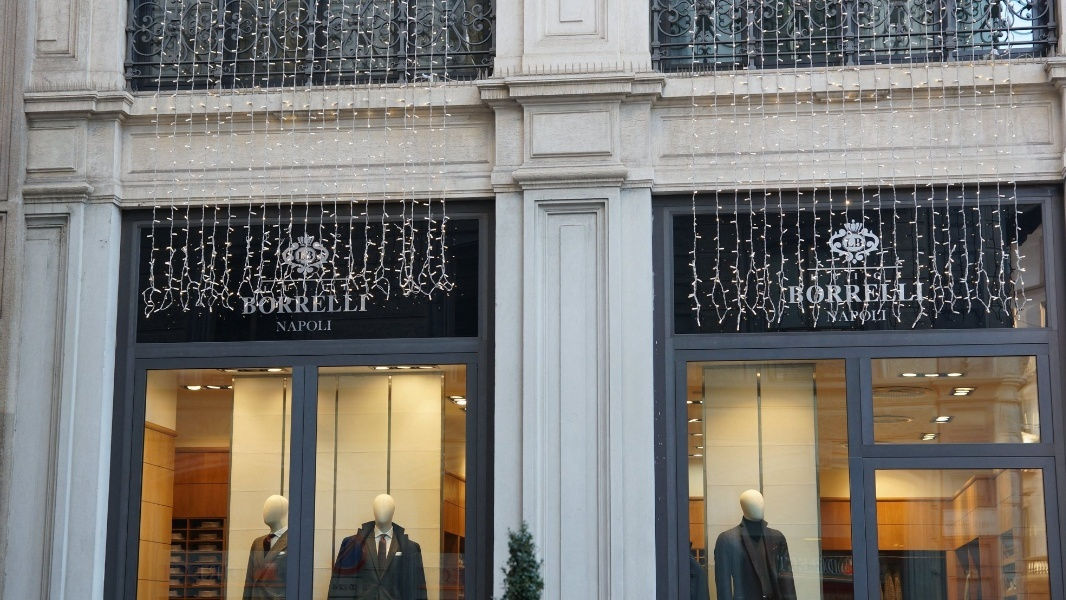text: (801, 284, 816, 304), (817, 284, 832, 304), (833, 284, 848, 304), (849, 284, 864, 304), (865, 284, 880, 304), (881, 284, 896, 304), (897, 284, 912, 304), (257, 295, 272, 314), (273, 295, 288, 314), (289, 295, 304, 314), (305, 295, 320, 314), (321, 295, 336, 314), (337, 295, 352, 314), (353, 295, 368, 314), (833, 559, 849, 576), (242, 295, 256, 314), (788, 284, 800, 304), (913, 284, 925, 304), (289, 320, 304, 332), (305, 320, 320, 332), (833, 311, 848, 322), (849, 311, 864, 322), (865, 311, 880, 322), (823, 559, 832, 576), (273, 284, 288, 293), (289, 284, 304, 293), (305, 284, 320, 293), (321, 284, 336, 293), (277, 320, 288, 332), (321, 320, 332, 332), (865, 272, 881, 280), (817, 272, 832, 280), (833, 272, 848, 280), (849, 272, 864, 280), (849, 238, 862, 247), (778, 556, 784, 571), (337, 585, 352, 591), (305, 251, 314, 260), (337, 284, 346, 293), (947, 520, 960, 526), (264, 284, 272, 293), (881, 311, 887, 322), (827, 311, 832, 322), (298, 251, 304, 260), (785, 556, 788, 571), (811, 272, 816, 280), (353, 585, 357, 591), (334, 585, 336, 591), (847, 238, 848, 247)
